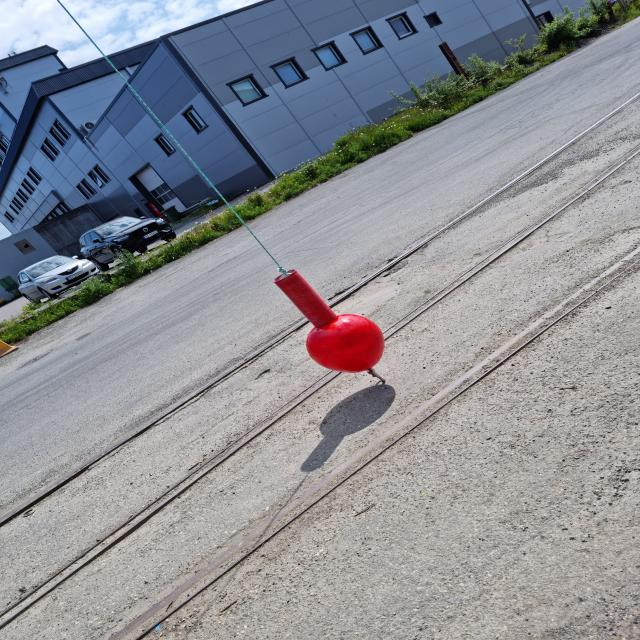red: (274, 270, 384, 372)
